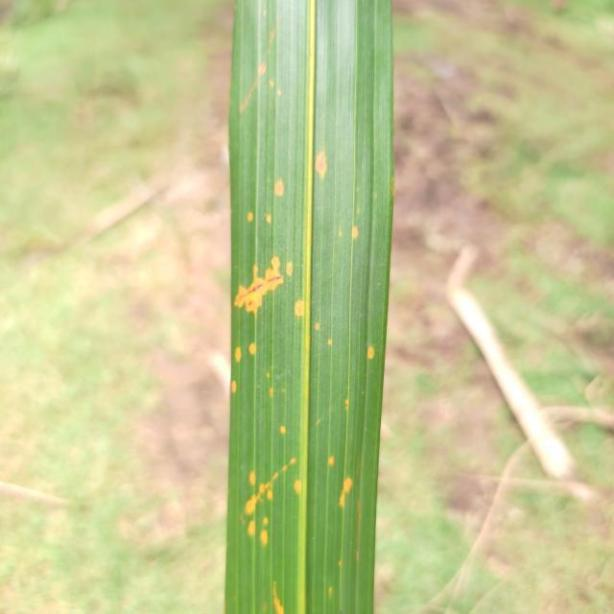Kalium: (229, 5, 393, 614)
